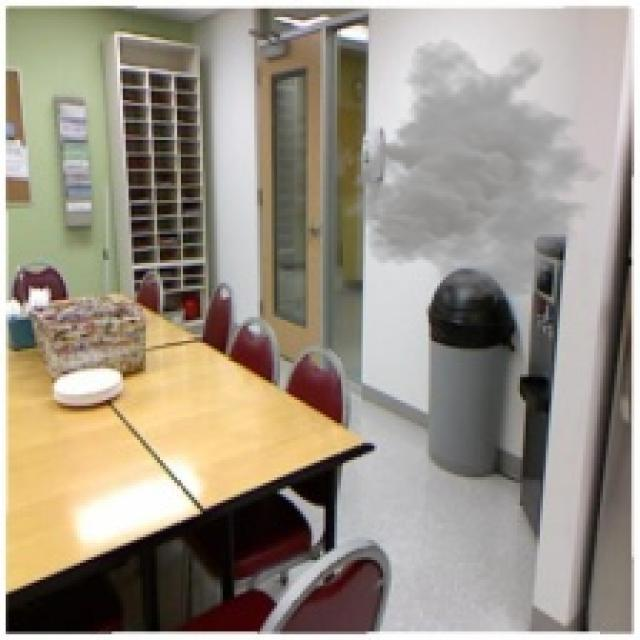Smoke: (340, 37, 614, 303)
